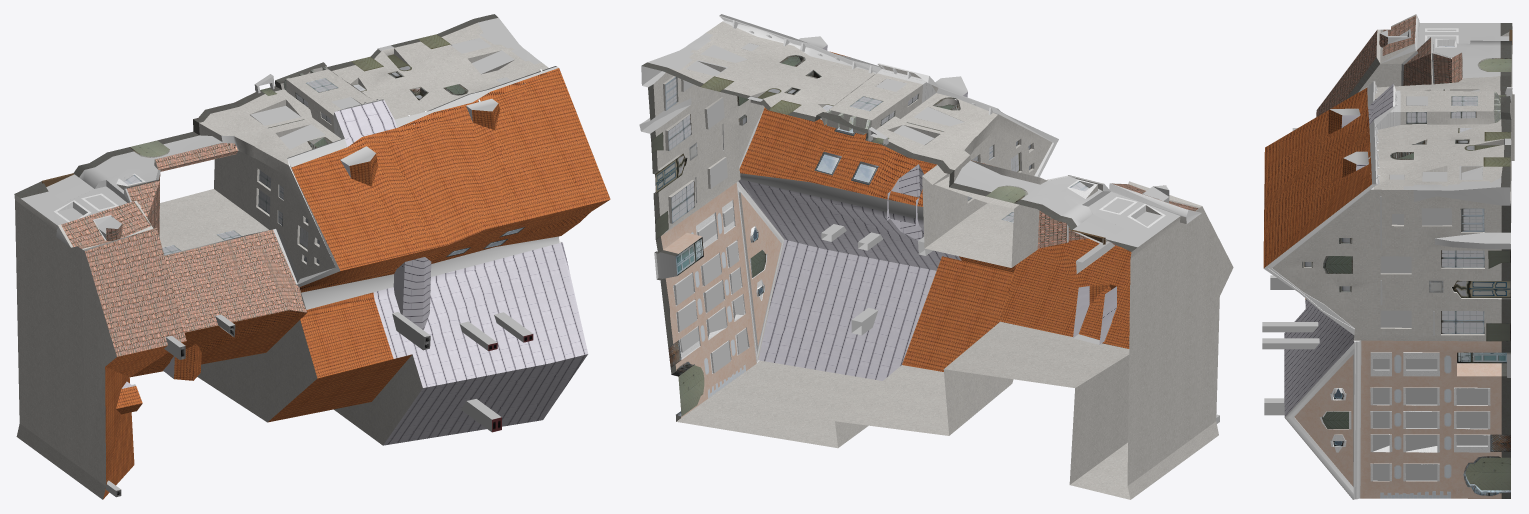
Rendered from Pikk_69-origo.obj.
3 views of the same model, side by side, from view 1: azimuth 30°, elevation 25°; view 2: azimuth 150°, elevation 25°; view 3: azimuth 270°, elevation 25° (orthographic). The views are drawn at different scales.
Parts seen in each view (by area): view 1: Pikk_69; view 2: Pikk_69; view 3: Pikk_69.
Boxes of the visible parts, bbox=[...] form: Pikk_69: bbox=[14, 14, 610, 499]; Pikk_69: bbox=[639, 14, 1233, 499]; Pikk_69: bbox=[1262, 14, 1514, 499].
Size of the model in its own units: 39.88 by 26.5 by 18.5.
